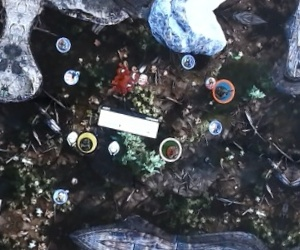giant_red_octopus: (105, 61, 143, 98)
green: (158, 135, 185, 163)
light_blue_orange: (210, 78, 237, 105)
lime_green_violet: (73, 128, 100, 155)
